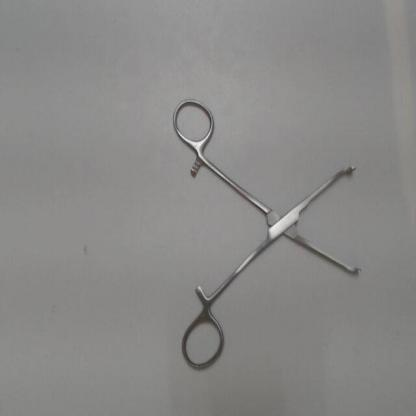Allis Tissue Forceps: (169, 91, 367, 373)
